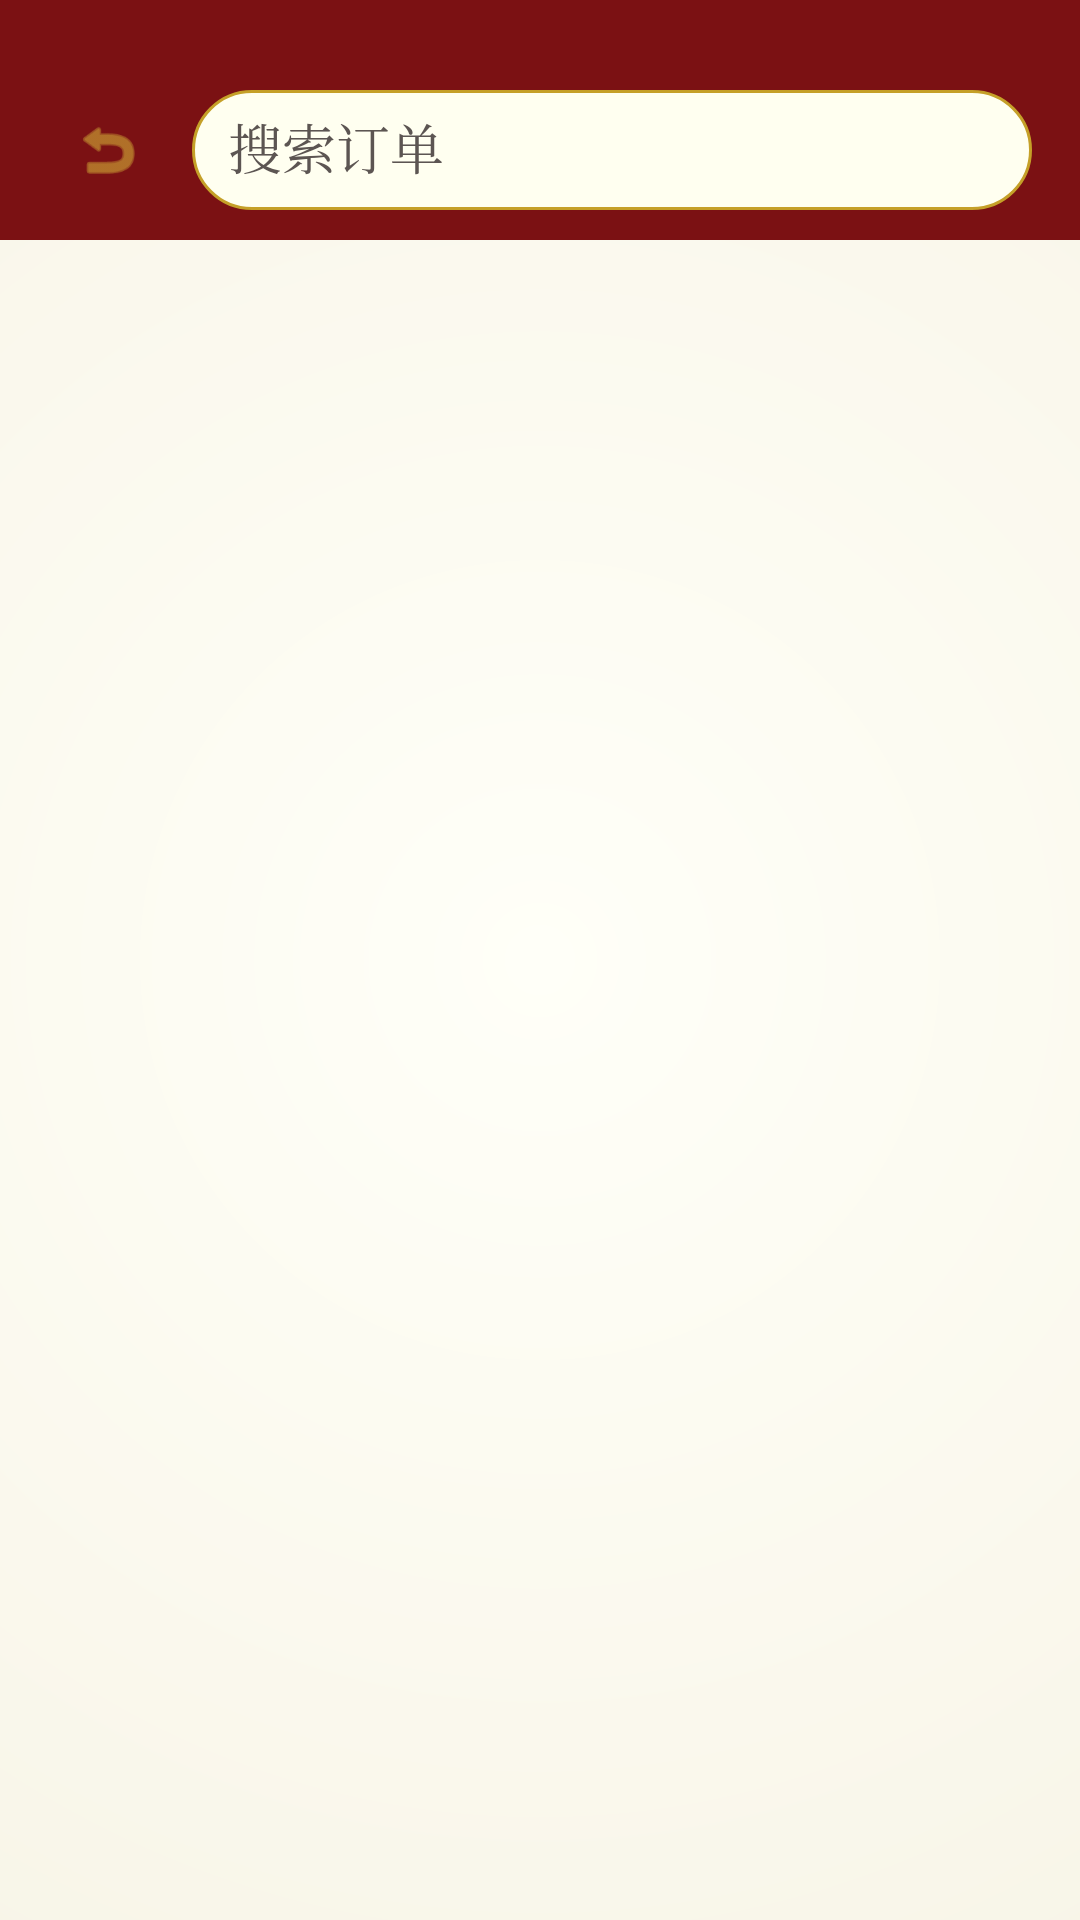

Named icons in this screenshot (1080*1920) and their bounding boxes, (x1, y1, x2, y2):
revert: (83, 127, 135, 174)
